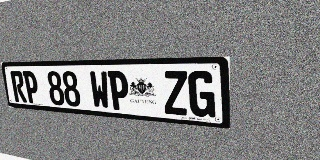8: (61, 71, 81, 107), (46, 71, 65, 106)
G: (188, 71, 215, 118)
P: (107, 71, 130, 111), (22, 71, 40, 104)
R: (10, 71, 27, 103)
W: (89, 71, 111, 109)
Z: (163, 71, 188, 116)
